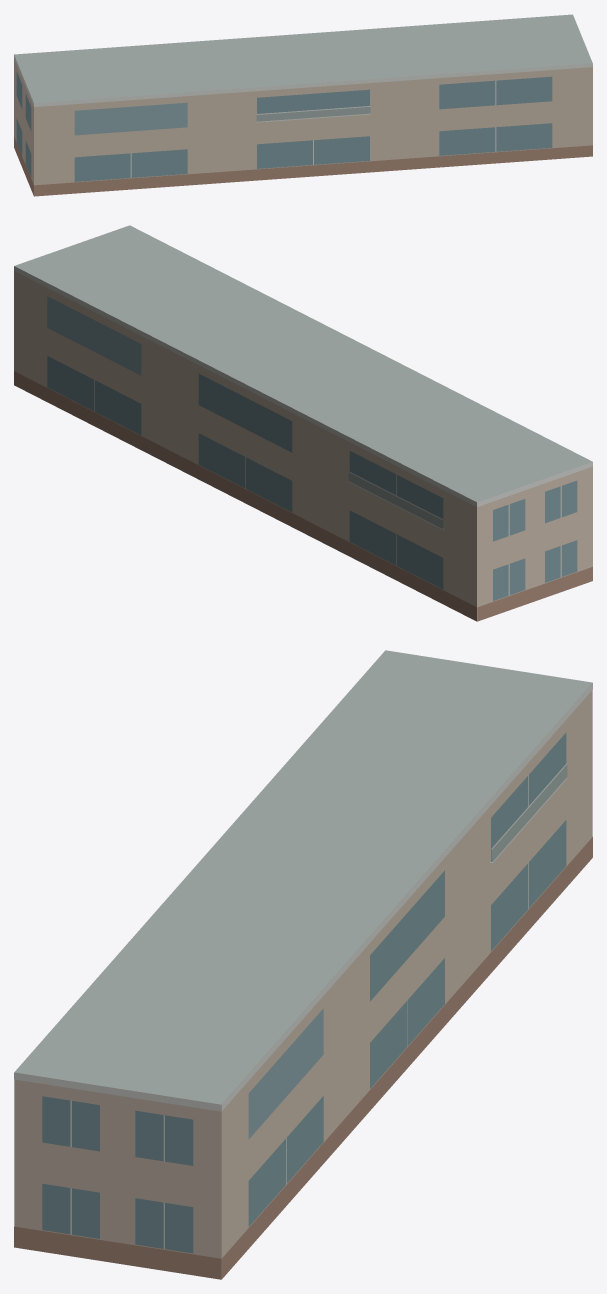
Rendered from survey-upis-32908490.glb.
The picture shows the model from 3 angles, top to bottom: view 1: azimuth 30°, elevation 25°; view 2: azimuth 150°, elevation 25°; view 3: azimuth 270°, elevation 25°; orthographic projection. The views are drawn at different scales.
Parts seen in each view (by area): view 1: survey-upis-32908490.tmp; view 2: survey-upis-32908490.tmp; view 3: survey-upis-32908490.tmp.
Part boxes in pixels (x1,y1,x2,y2): survey-upis-32908490.tmp: (14, 14, 592, 196); survey-upis-32908490.tmp: (14, 225, 592, 621); survey-upis-32908490.tmp: (14, 650, 592, 1279).
Bounding box in the file's own units: 33.98 × 6.1 × 18.29.
